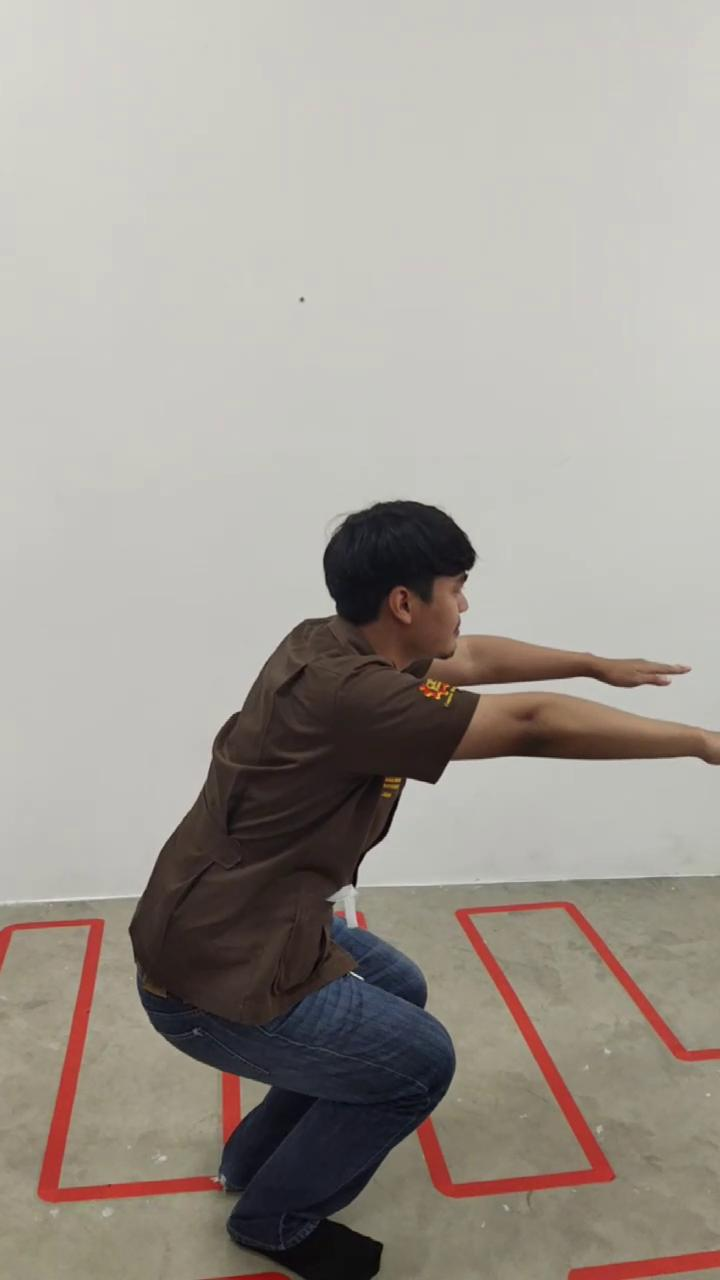squat down: (130, 500, 720, 1280)
